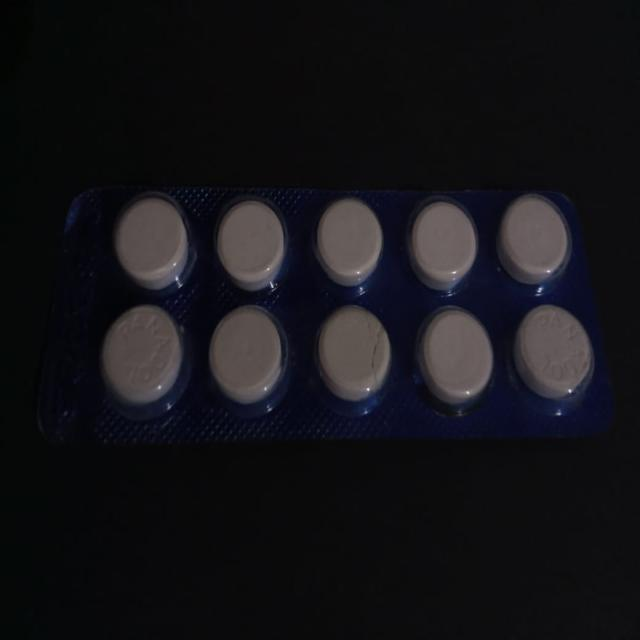defect: (316, 302, 394, 406)
